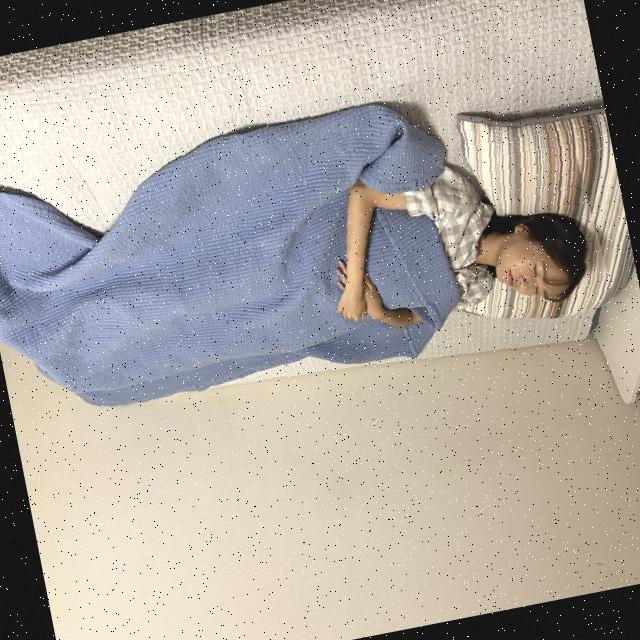people: (0, 51, 629, 472)
